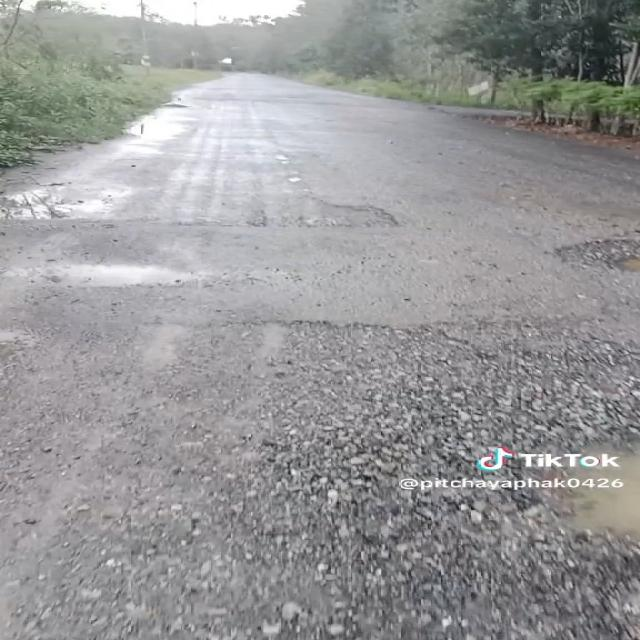Poth-hole: (226, 171, 484, 276)
